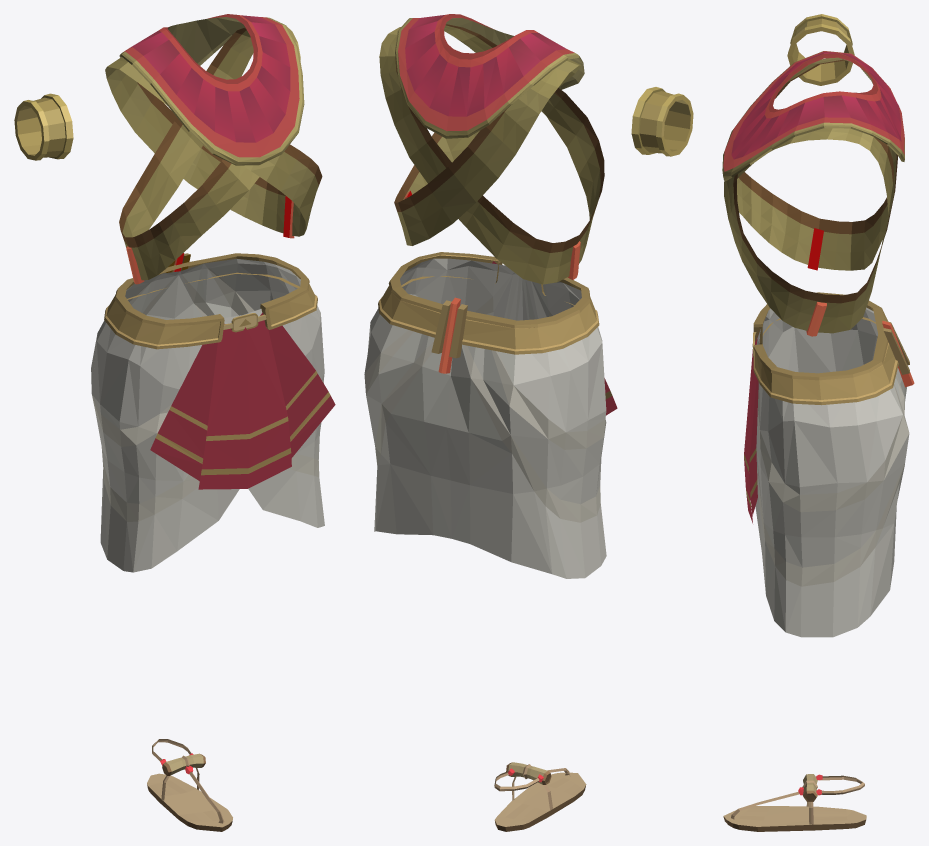
Rendered from ancientEgyptArmorFemale.glb.
The picture shows the model from 3 angles, left to right: view 1: azimuth 30°, elevation 25°; view 2: azimuth 150°, elevation 25°; view 3: azimuth 270°, elevation 25°; orthographic projection. The views are drawn at different scales.
Visible parts, largest first — view 1: ancientEgyptArmor, ancientEgyptArmorBelt, ancientEgyptArmorNeck, ancientEgyptShoe, ancientEgyptArmorArm; view 2: ancientEgyptArmor, ancientEgyptArmorBelt, ancientEgyptArmorNeck, ancientEgyptShoe, ancientEgyptArmorArm; view 3: ancientEgyptArmor, ancientEgyptArmorBelt, ancientEgyptArmorNeck, ancientEgyptShoe, ancientEgyptArmorArm.
Part boxes in pixels (<box>): ancientEgyptArmor: <box>91,253,335,572</box>; ancientEgyptArmorBelt: <box>105,27,322,284</box>; ancientEgyptArmorNeck: <box>119,14,304,165</box>; ancientEgyptShoe: <box>147,739,232,831</box>; ancientEgyptArmorArm: <box>14,93,73,160</box>; ancientEgyptArmor: <box>364,252,617,578</box>; ancientEgyptArmorBelt: <box>379,24,604,284</box>; ancientEgyptArmorNeck: <box>395,14,584,138</box>; ancientEgyptShoe: <box>494,762,586,831</box>; ancientEgyptArmorArm: <box>631,87,693,156</box>; ancientEgyptArmor: <box>744,292,914,637</box>; ancientEgyptArmorBelt: <box>724,57,897,336</box>; ancientEgyptArmorNeck: <box>722,51,904,180</box>; ancientEgyptShoe: <box>723,774,866,831</box>; ancientEgyptArmorArm: <box>787,14,854,85</box>.
Bounding box in the file's own units: 0.6196 × 1.57 × 0.3553.
